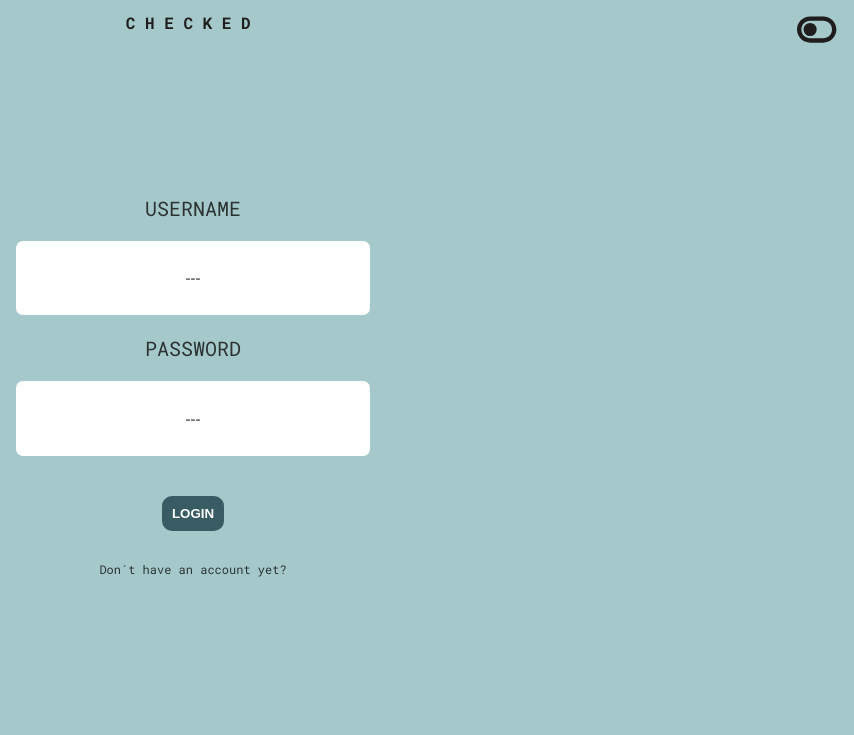
Test: Task_app › Sign in › Can change from sign-in to login form
Step 1. Click the text "Don´t have an account yet?" → (193, 570), box [99,562,286,578]
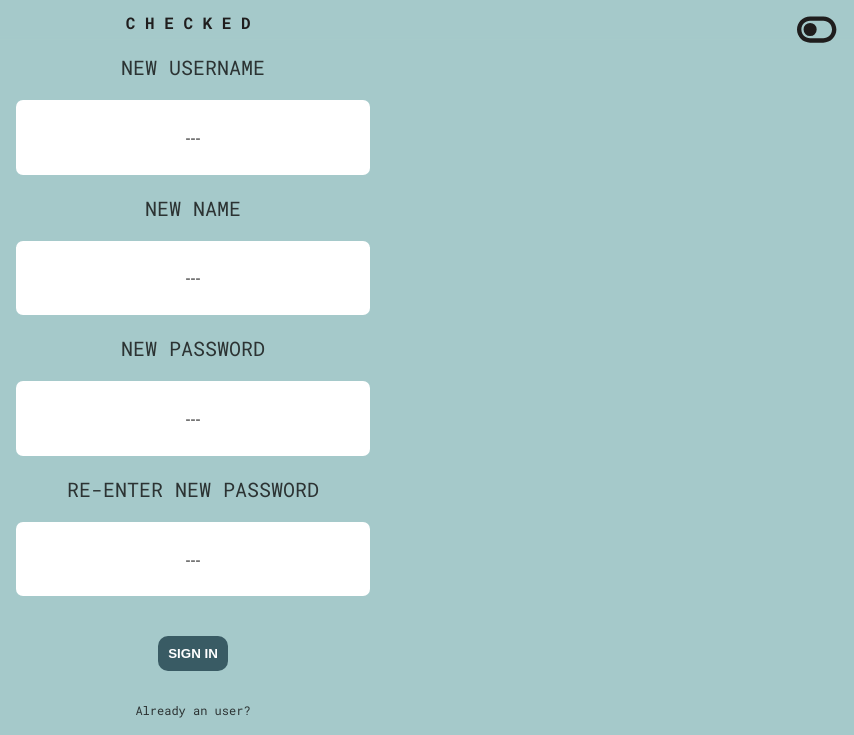
Step 2. Click the text "Already an user?" → (193, 710), box [135,702,250,718]
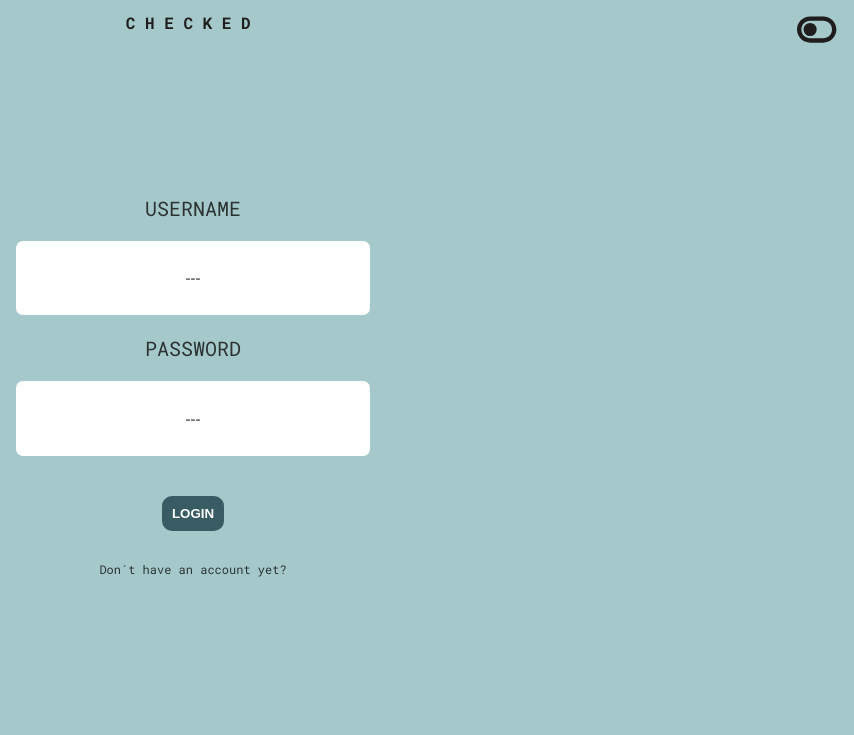
expect the button "LOGIN" is shown: met, box [162,496,224,531]
